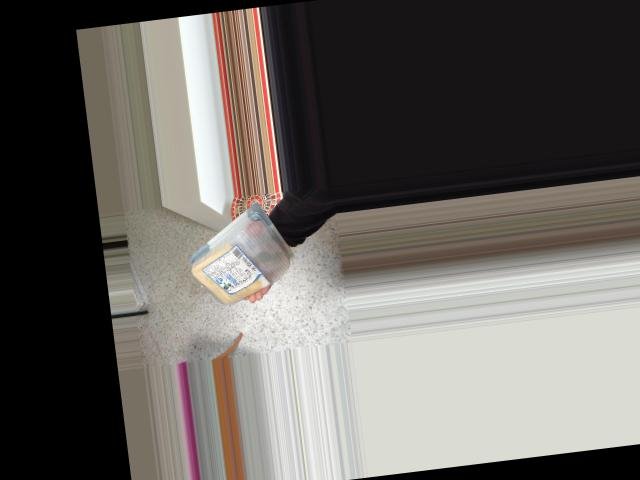cheese: (178, 207, 297, 310)
